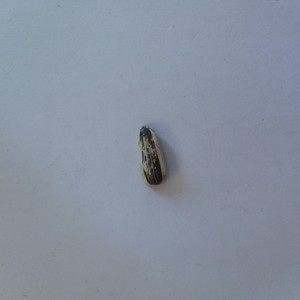girasol: (133, 124, 169, 190)
